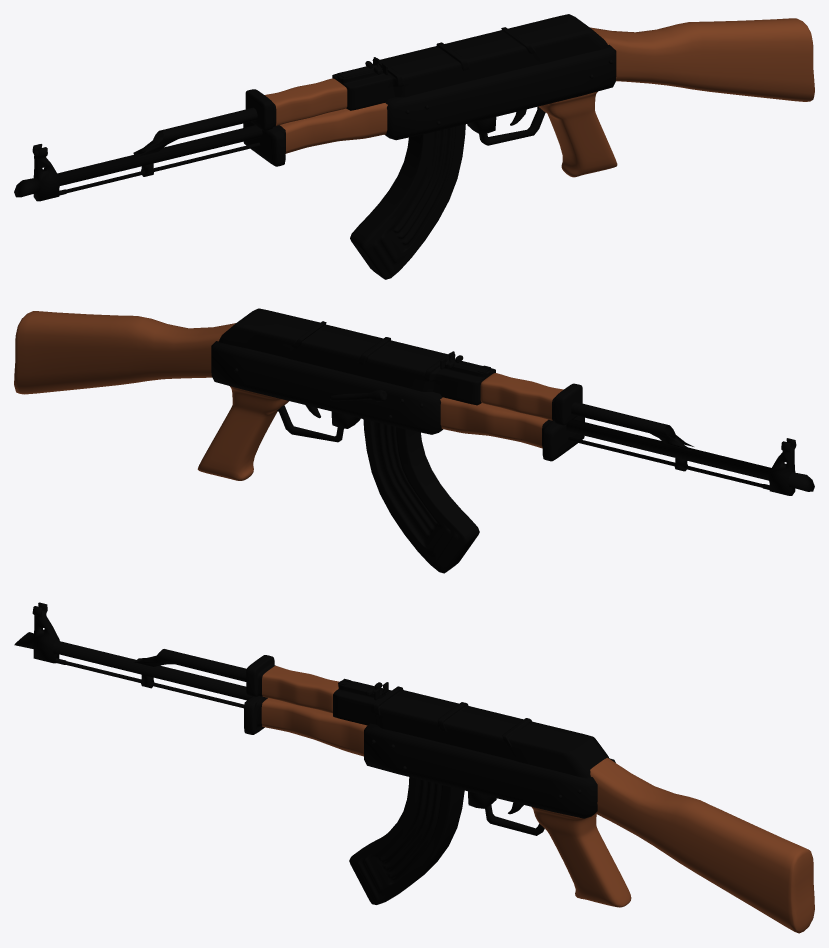
The model's file is AKM.fbx.
3 views of the same model, one above another, from view 1: azimuth 30°, elevation 25°; view 2: azimuth 150°, elevation 25°; view 3: azimuth 330°, elevation 25° (orthographic).
Visible parts, largest first — view 1: AKM; view 2: AKM; view 3: AKM.
Part boxes in pixels (x1=…): AKM: x1=14, y1=14, x2=814, y2=279; AKM: x1=14, y1=308, x2=814, y2=573; AKM: x1=14, y1=602, x2=814, y2=933.
Bounding box in the file's own units: 352 × 90.46 × 30.36.
